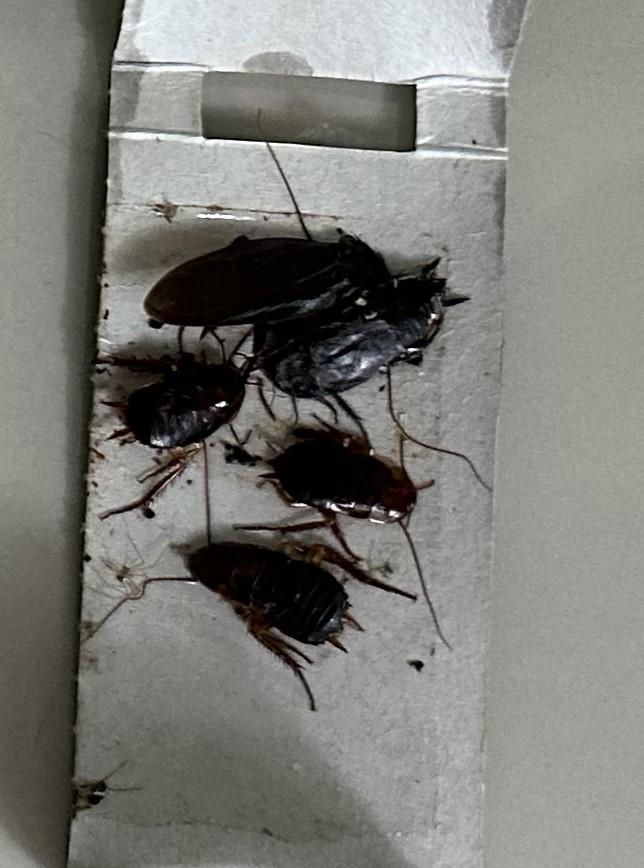cockroach: (105, 490, 443, 718), (115, 199, 384, 334), (228, 400, 450, 546), (247, 270, 474, 401), (50, 350, 260, 467)
